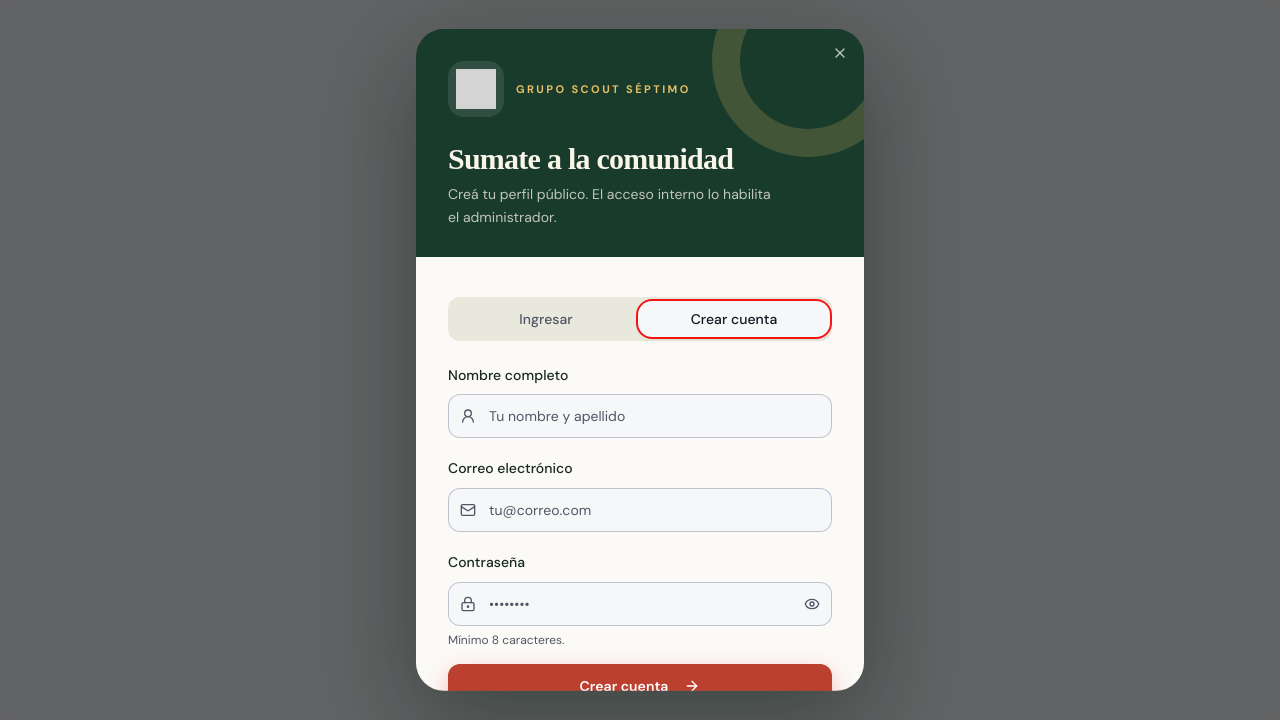
public account registration › uses a conditional confirmation message when signup returns no session
Step 1. Type "Scout Prueba" into the field labelled "Nombre completo" → [640, 416], box top-left (448, 394), bottom-right (832, 438)
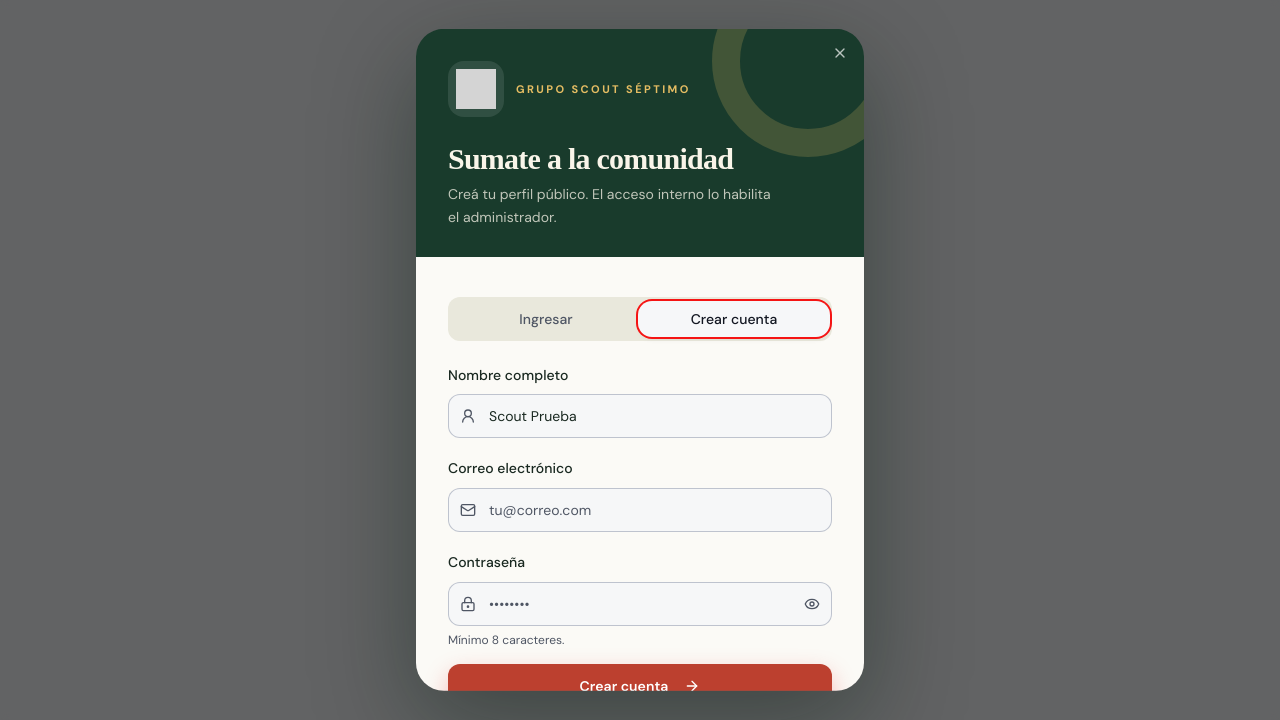
Step 2. Type "SCOUT@example.com" into the field labelled "Correo electrónico" → [640, 510], box top-left (448, 488), bottom-right (832, 532)
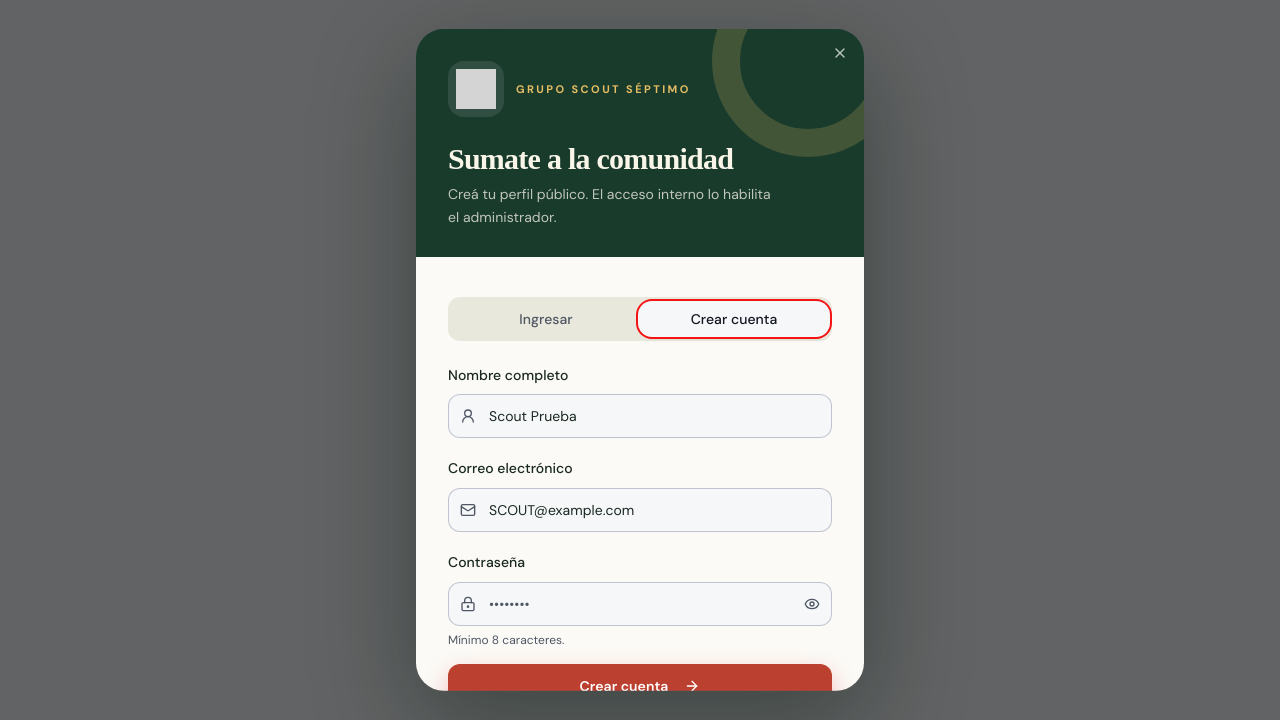
Step 3. Type "password-segura" into the password field labelled "Contraseña" → [640, 603], box top-left (448, 581), bottom-right (832, 625)
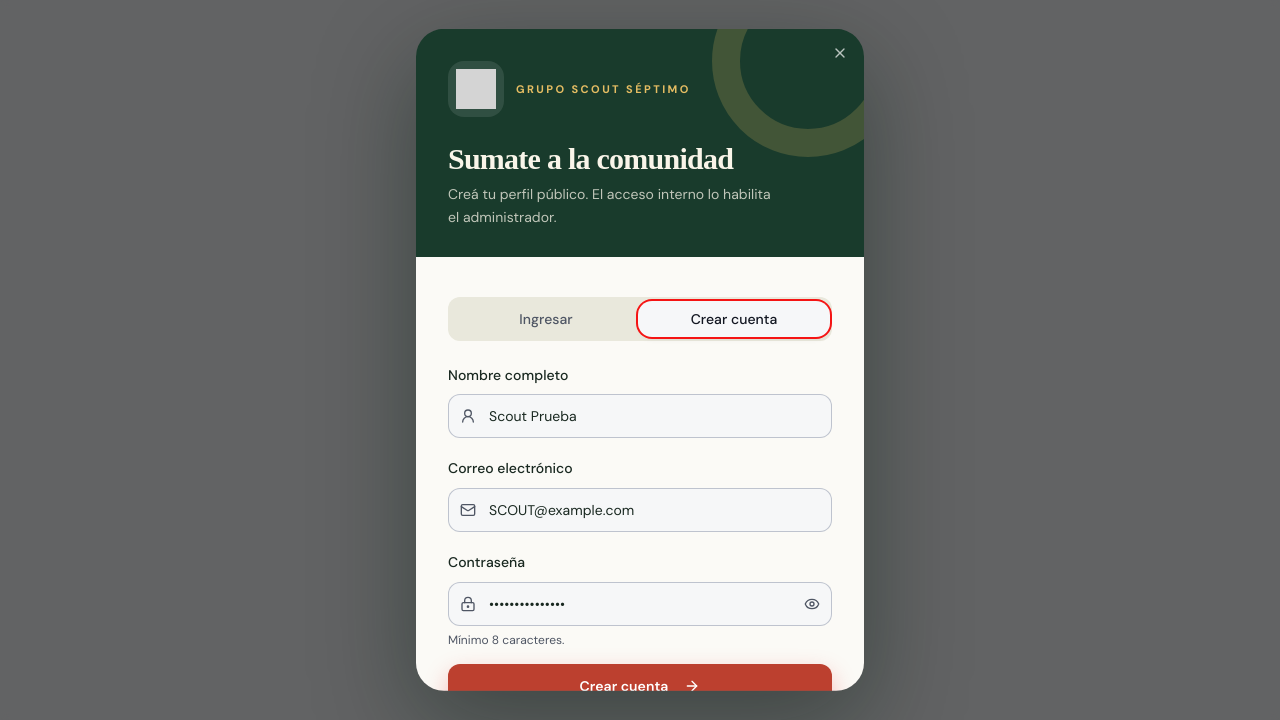
Step 4. Click the button "Crear cuenta" → [640, 685], box top-left (448, 663), bottom-right (832, 707)
(page scrolled)
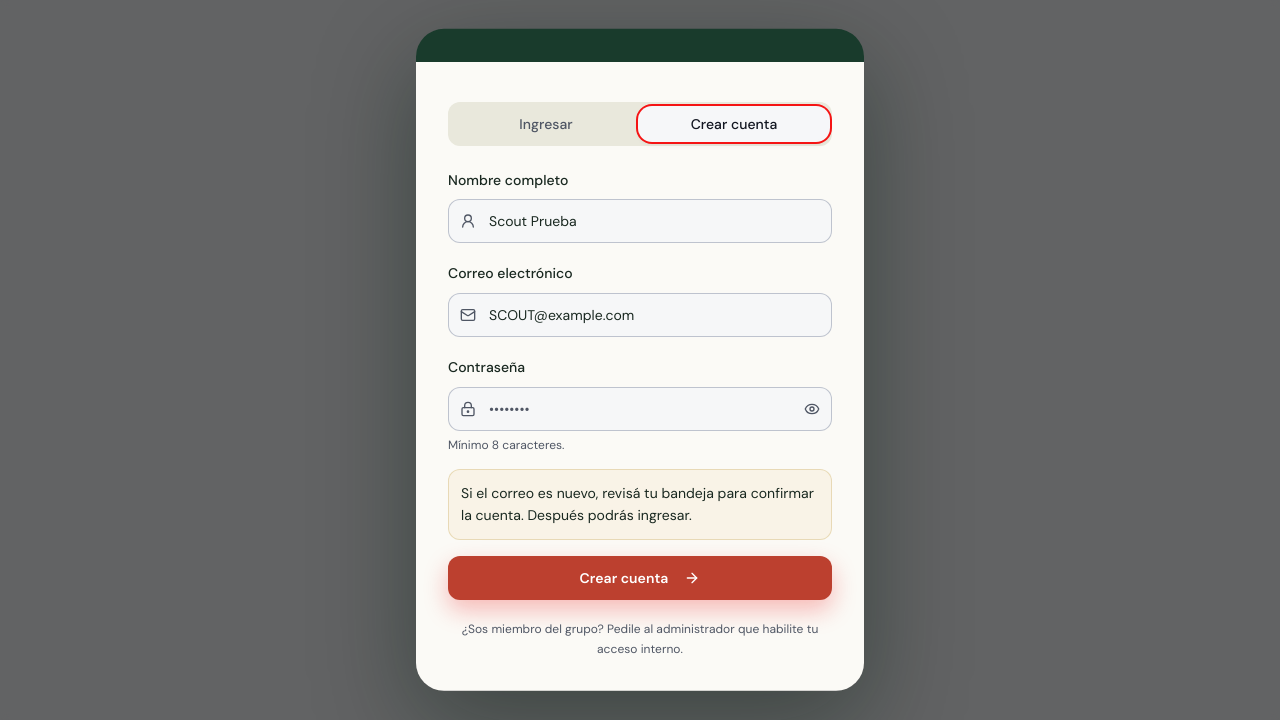
Expected: the message shows "Si el correo es nuevo", top-left (461, 483), bottom-right (814, 524)
